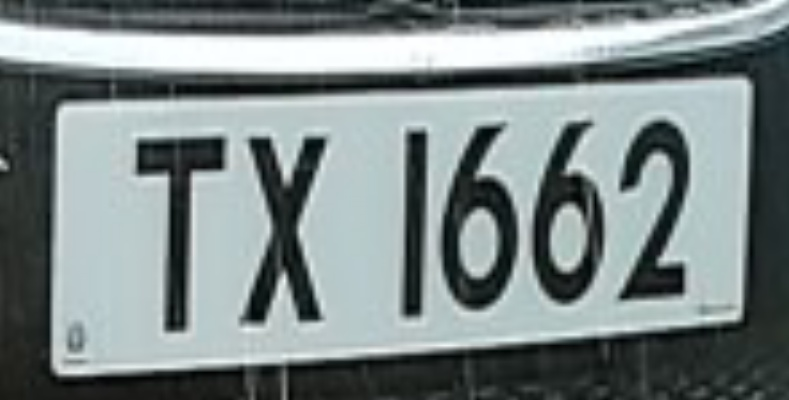1: (373, 106, 437, 340)
2: (608, 95, 705, 320)
6: (434, 105, 526, 328), (527, 101, 613, 324)
T: (116, 117, 238, 349)
X: (230, 113, 344, 344)
